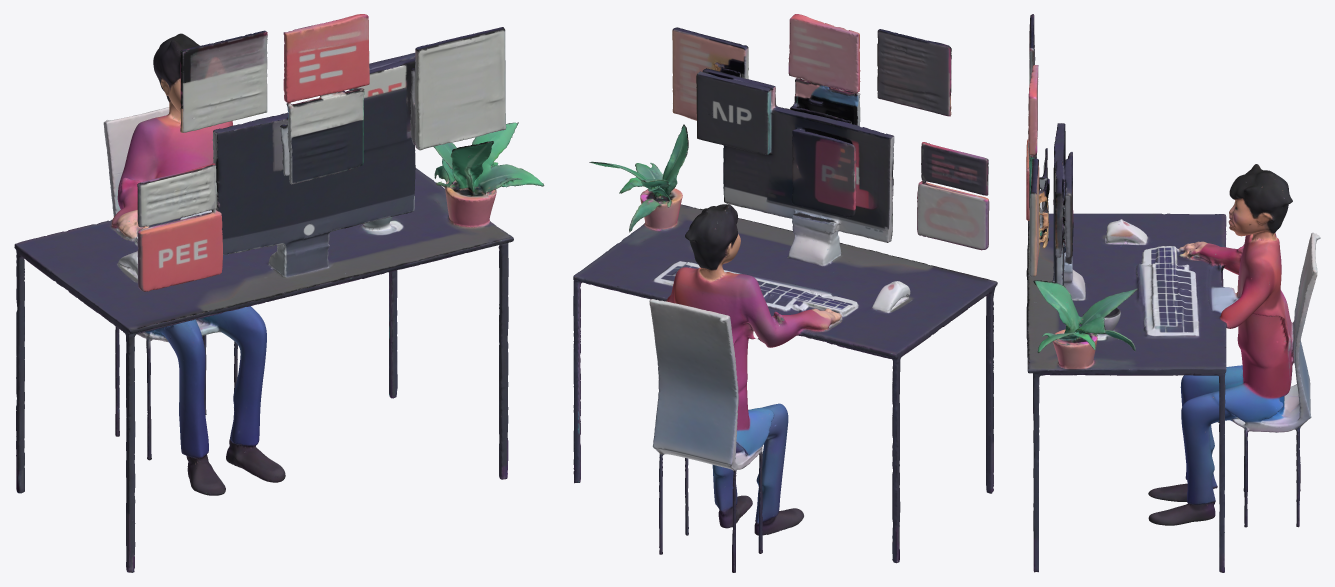
The picture shows the model from 3 angles, left to right: view 1: azimuth 30°, elevation 25°; view 2: azimuth 150°, elevation 25°; view 3: azimuth 270°, elevation 25°; orthographic projection. The views are drawn at different scales.
Size of the model in its own units: 1.73 by 2 by 1.21.
1 material, 1 textured.
